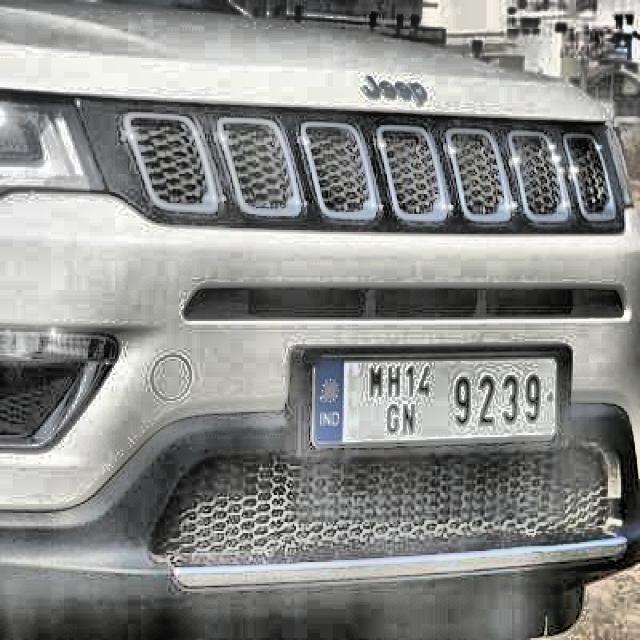license_plate: (300, 348, 570, 448)
